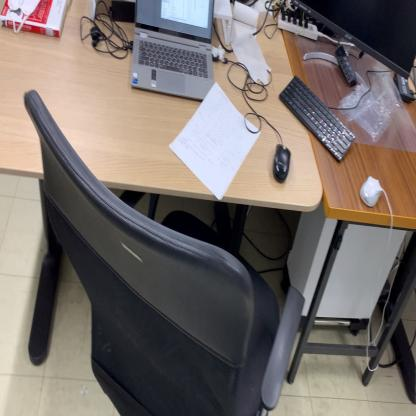chair: (21, 88, 306, 416)
